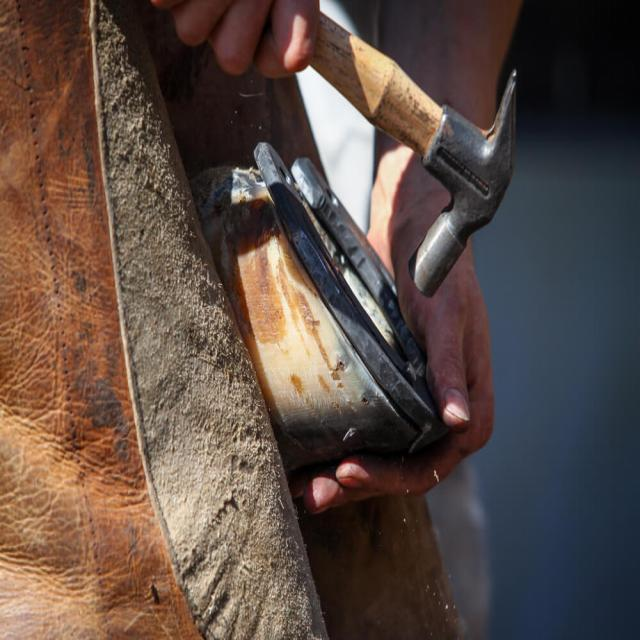hammer: (294, 0, 526, 316)
